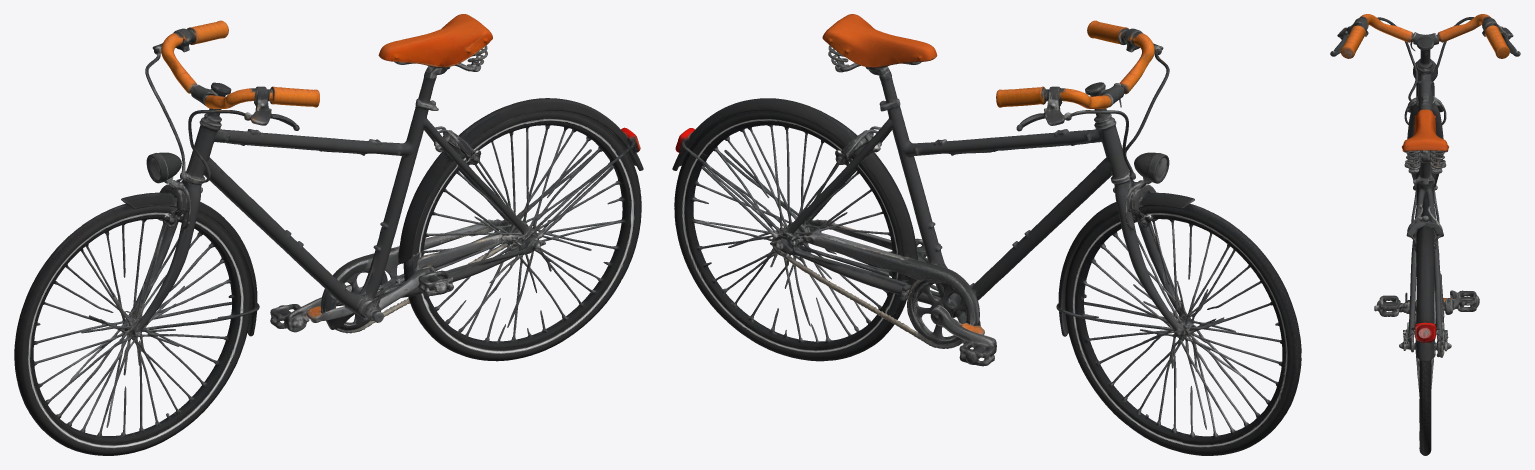
File: bicycle.glb
The picture shows the model from 3 angles, left to right: view 1: azimuth 30°, elevation 25°; view 2: azimuth 150°, elevation 25°; view 3: azimuth 270°, elevation 25°; orthographic projection. The views are drawn at different scales.
Parts seen in each view (by area): view 1: mesh_node; view 2: mesh_node; view 3: mesh_node.
Part boxes in pixels (left/top/right/bottom): mesh_node: left=14, top=14, right=643, bottom=455; mesh_node: left=672, top=14, right=1301, bottom=455; mesh_node: left=1330, top=14, right=1520, bottom=455.
Bounding box in the file's own units: 1.9 × 1.08 × 0.6102.
1 material, 1 textured.
